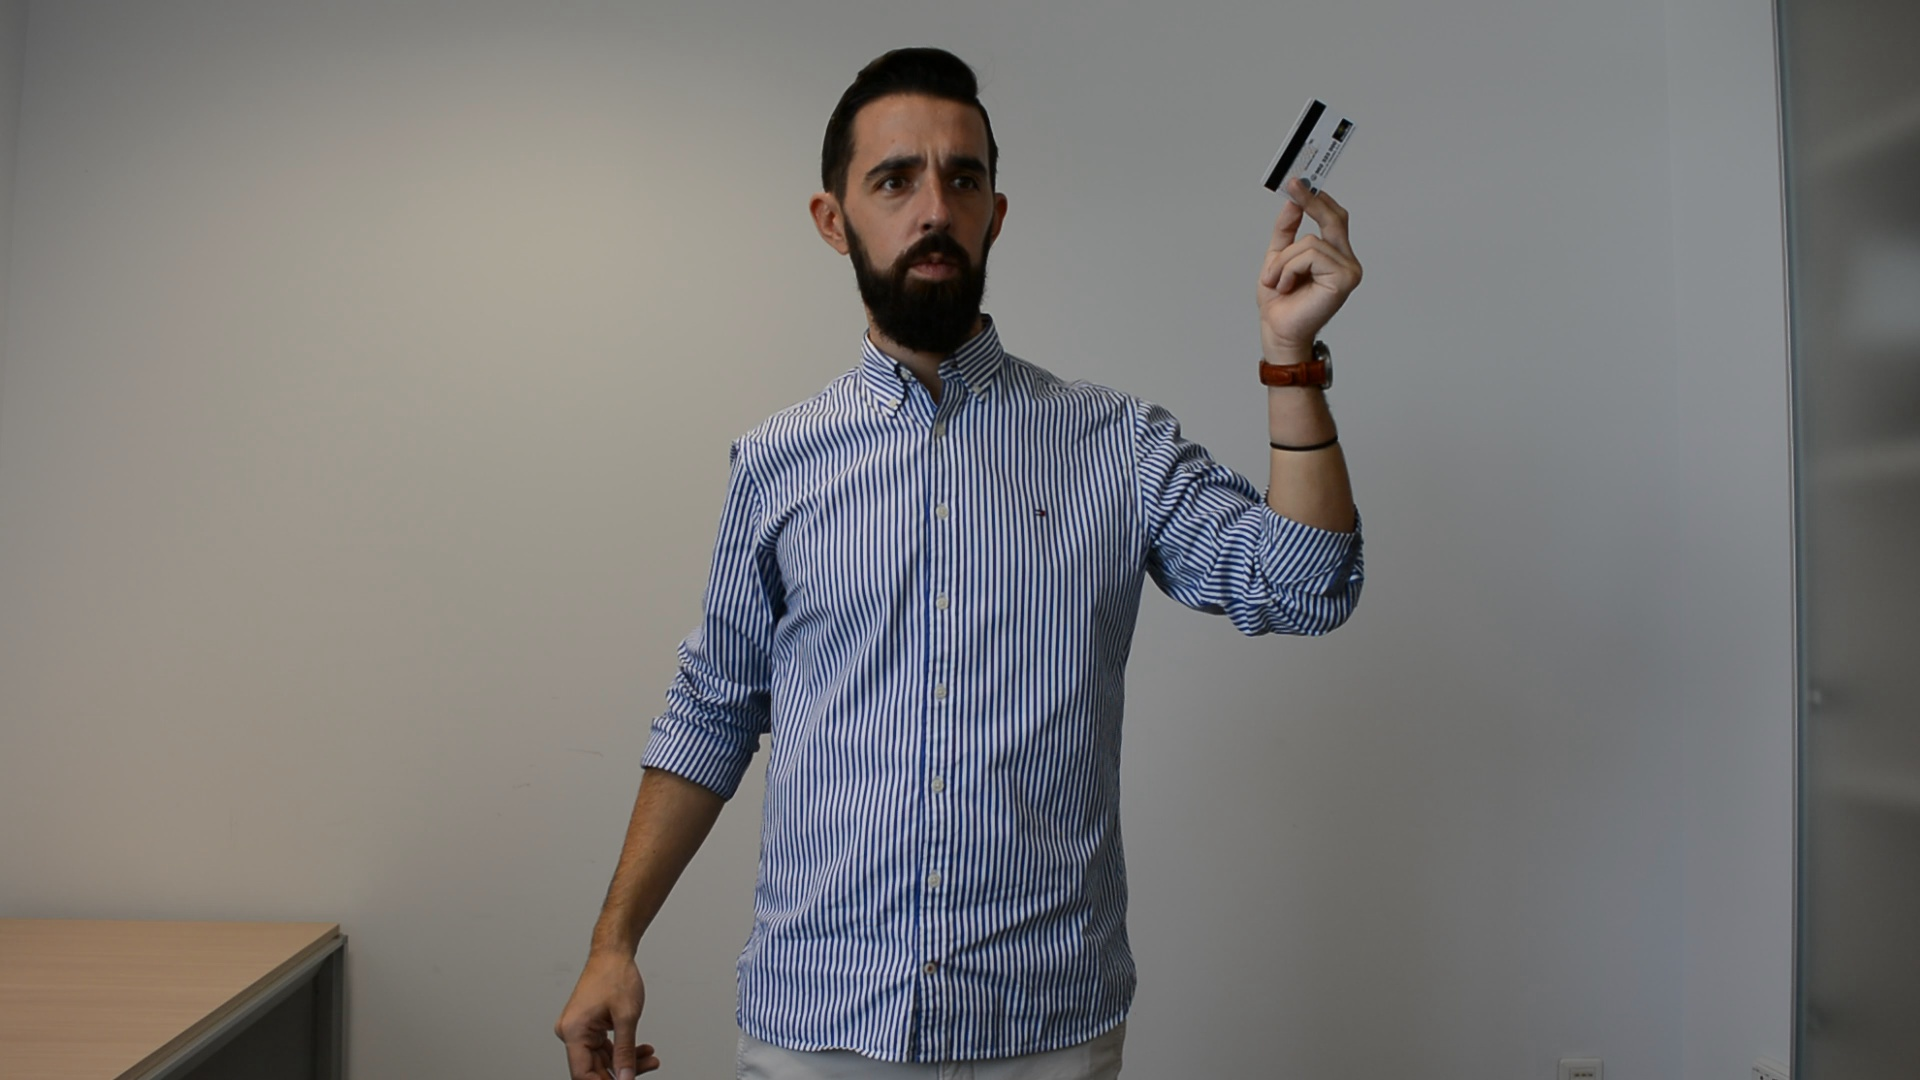tarjeta: (1255, 90, 1364, 215)
